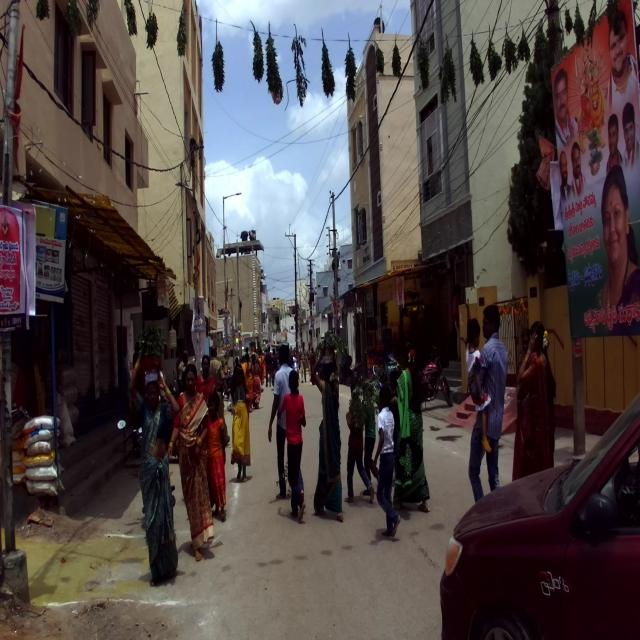car: (438, 388, 640, 640)
motorcycle: (413, 343, 453, 407)
